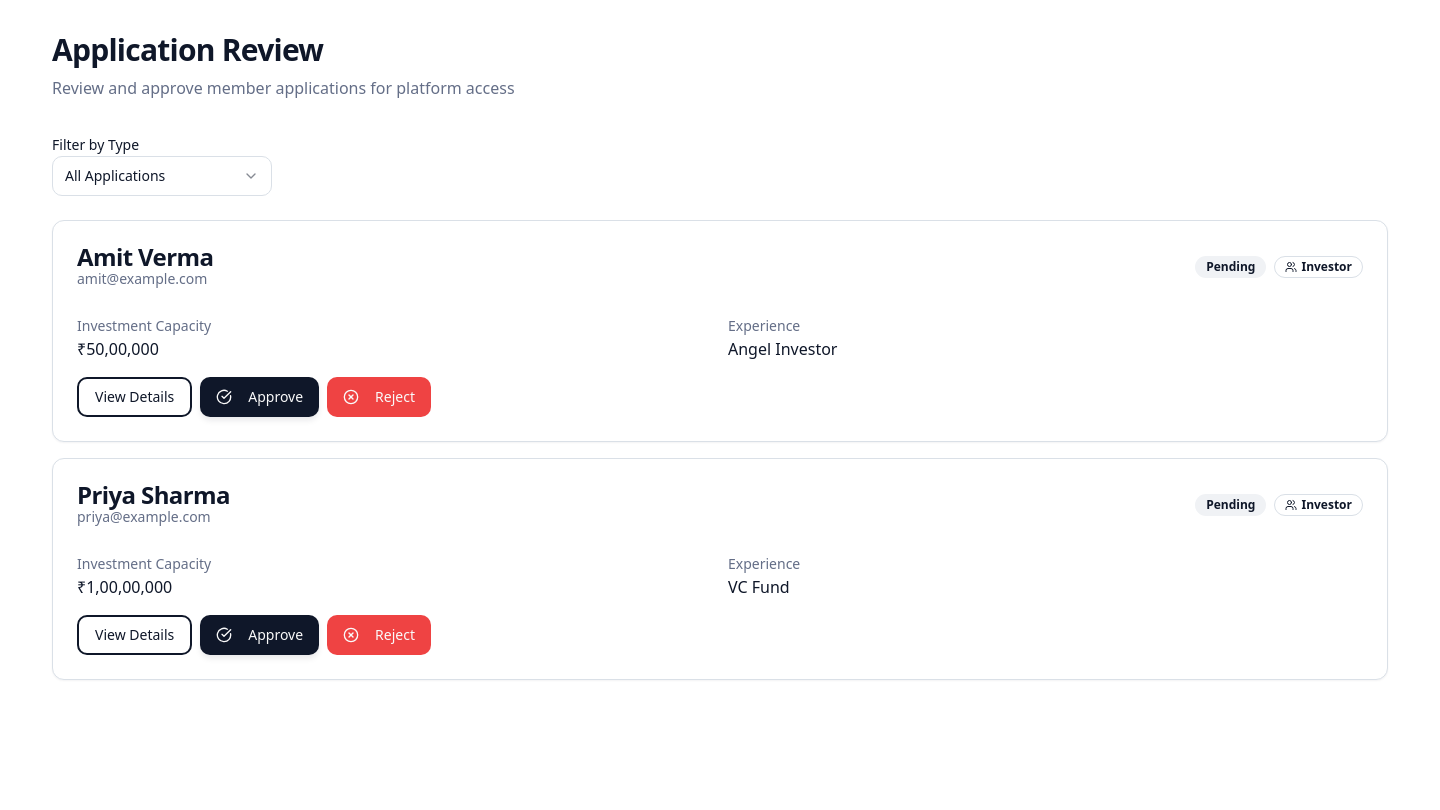
Test: US-ADMIN-004: Application Review › View Application Details › should open details dialog when viewing application
Expected: the text "Amit Verma" is shown, [77,245,213,269]
What coordinates should you click on to do the following:
click the button "View Details" below "₹50,00,000"
I would click on:
 (135, 397)
Its box is [77,377,192,417].
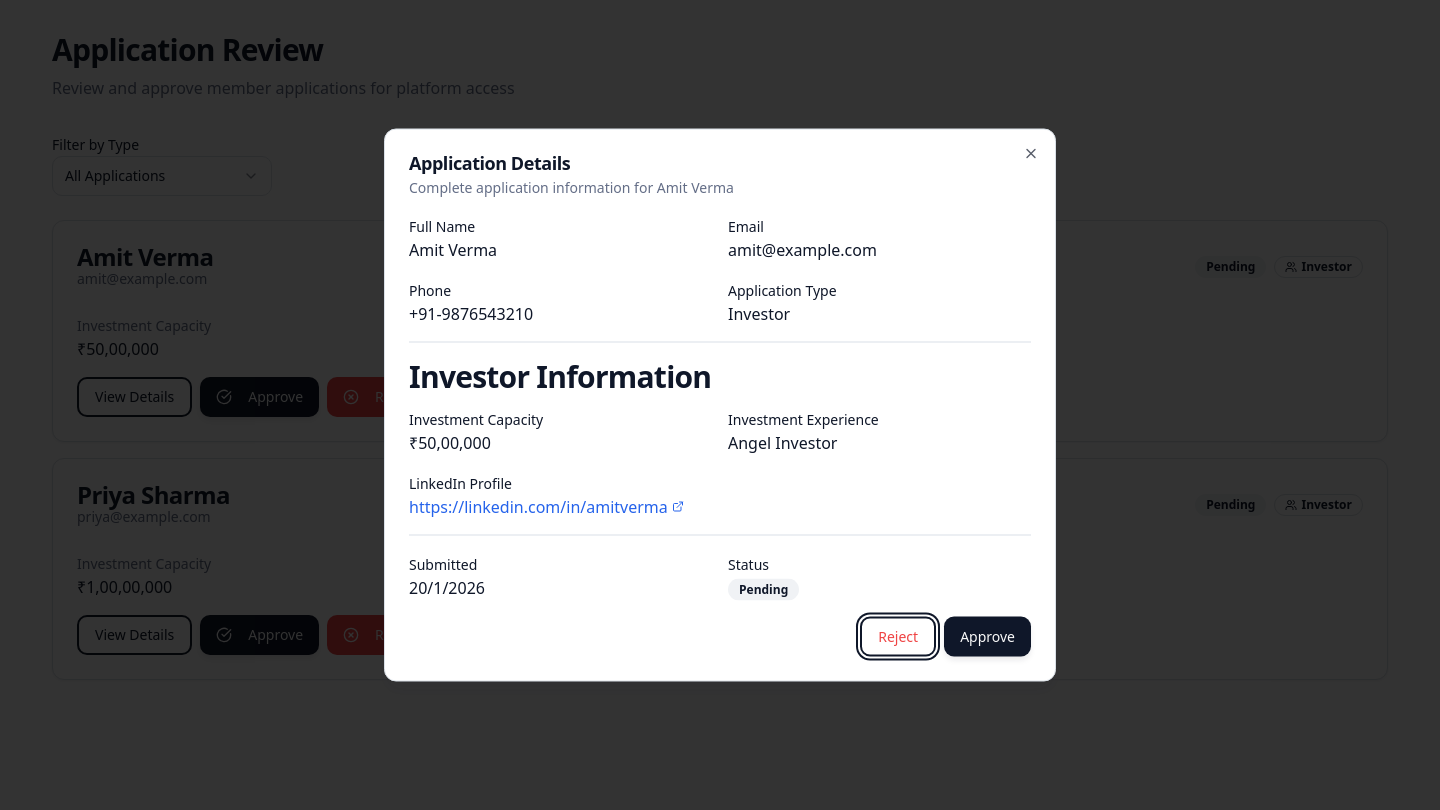
Expected: the heading "Application Details" is shown, [409,150,570,174]
